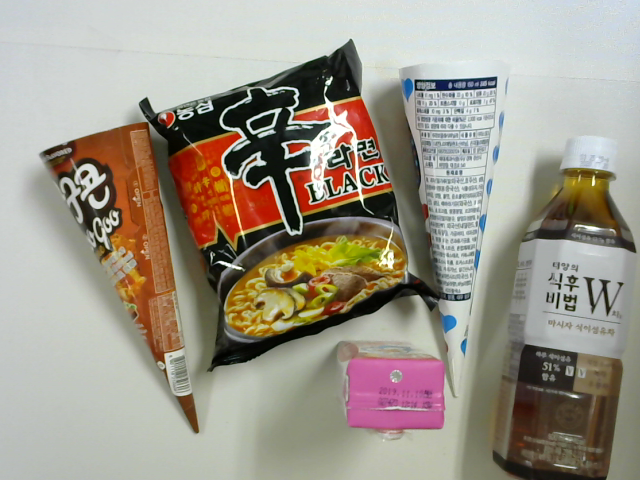Bravo_Cone_(Banila)_CVS: (396, 56, 509, 403)
GooGoo_Cone_CVS: (39, 125, 204, 436)
Post-meal_recipe_W_tea_500ml: (485, 134, 634, 480)
Sinramen_Black: (160, 57, 411, 332)
Strawberry_E_Mong: (333, 345, 453, 441)
